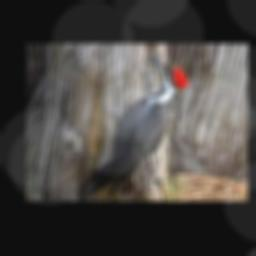Woodpecker: (81, 50, 189, 199)
